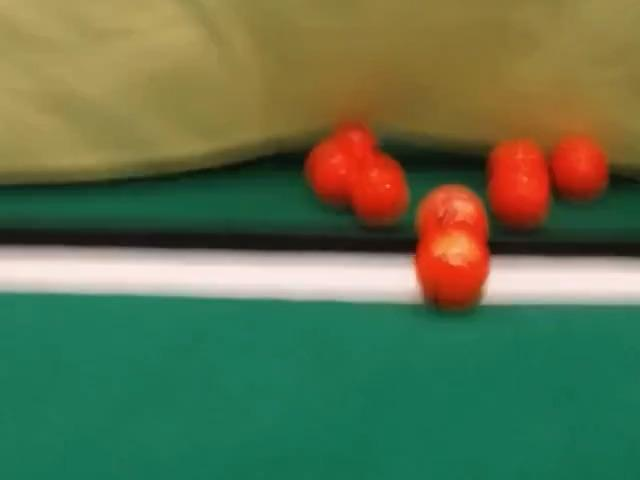Ball: (414, 229, 489, 310), (351, 153, 409, 226), (415, 184, 489, 240), (549, 135, 609, 201), (487, 171, 551, 230), (304, 139, 358, 206), (487, 139, 546, 177), (330, 120, 377, 158)
